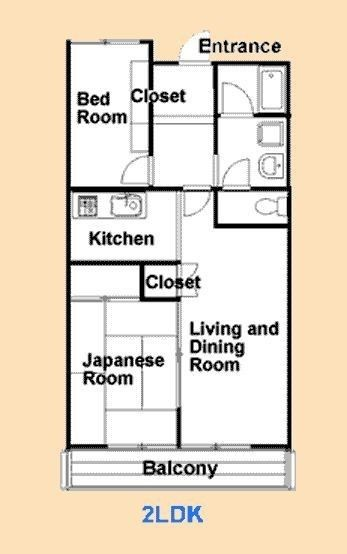door: (221, 77, 263, 122), (116, 153, 163, 186), (176, 27, 214, 67), (224, 153, 252, 193), (179, 261, 205, 303), (182, 191, 216, 222)
room: (74, 47, 290, 194), (69, 190, 180, 450), (183, 190, 284, 454)
wall: (60, 43, 78, 448), (284, 55, 295, 453), (142, 38, 157, 152), (66, 182, 184, 196), (63, 257, 187, 268), (208, 59, 221, 153), (205, 221, 290, 235), (212, 58, 294, 70), (249, 181, 293, 195), (141, 295, 185, 308), (209, 184, 221, 227), (172, 410, 186, 442), (252, 110, 289, 121), (137, 268, 148, 301), (147, 59, 179, 70)
window: (110, 441, 179, 454), (181, 441, 250, 454), (105, 36, 138, 48)
